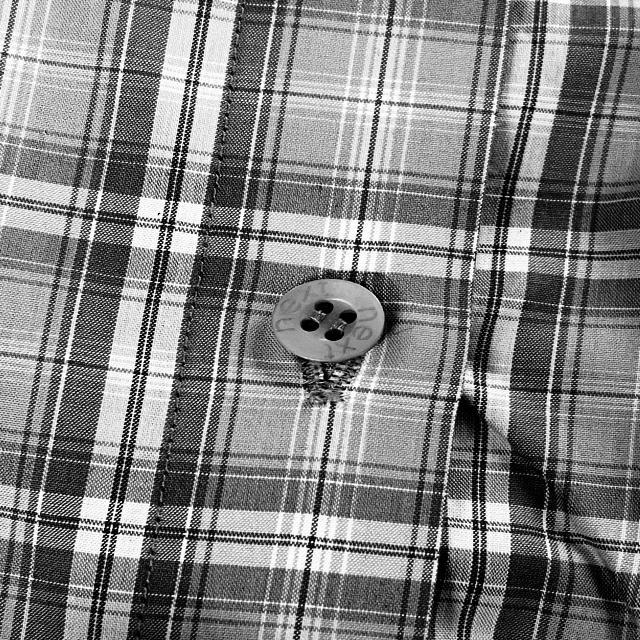Button_hike: (261, 267, 390, 420)
